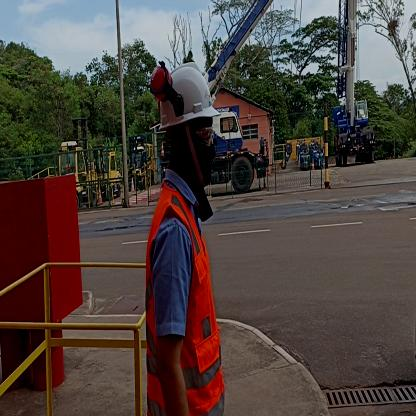Balaclava: (170, 120, 217, 188)
Capacete: (154, 64, 222, 118)
colete: (144, 190, 228, 415)
